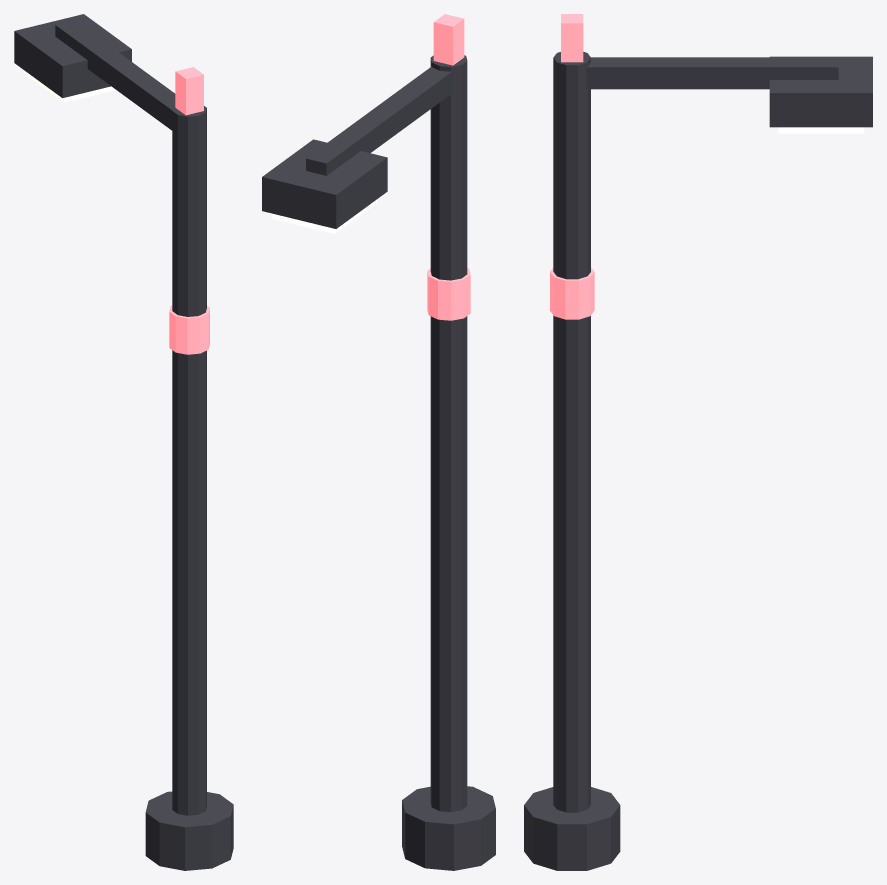
The model's file is lamp.glb.
3 views of the same model, side by side, from view 1: azimuth 30°, elevation 25°; view 2: azimuth 150°, elevation 25°; view 3: azimuth 270°, elevation 25° (orthographic). The views are drawn at different scales.
Parts seen in each view (by area): view 1: lamp; view 2: lamp; view 3: lamp.
Boxes of the visible parts, x1=… form: lamp: x1=14, y1=14, x2=233, y2=870; lamp: x1=262, y1=14, x2=495, y2=870; lamp: x1=524, y1=14, x2=872, y2=870.
Size of the model in its own units: 0.5326 by 5.35 by 2.03.
